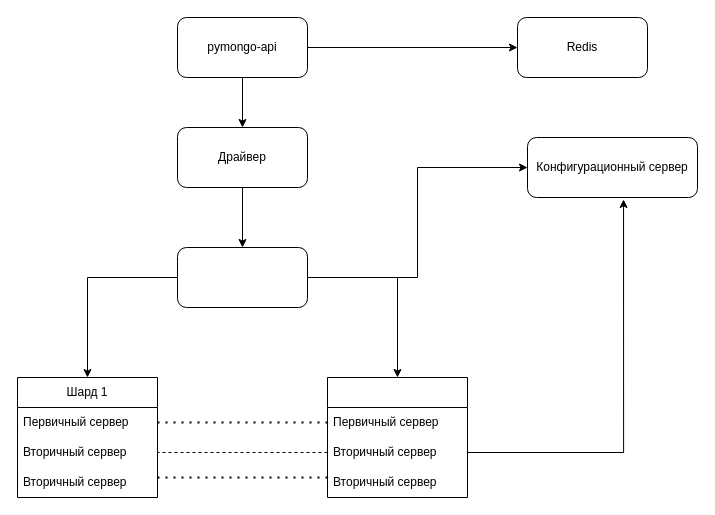
This 715x515 diagram has some shape labels left out. The shapes that lost their labels are listed below. From the top down, each one's box as (x1, y1, x2, y2) in pixels, then its label:
(176, 246, 308, 308): Роутер
(326, 376, 468, 498): Шард 2
